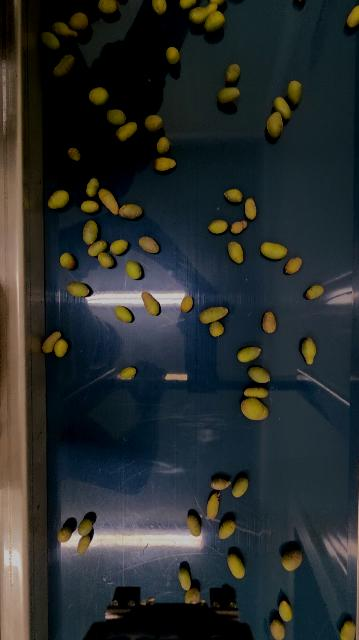Baby Potato: (240, 395, 271, 422), (52, 53, 77, 79), (260, 240, 289, 261), (203, 10, 227, 35), (141, 289, 162, 317), (99, 188, 120, 216), (188, 4, 217, 24), (281, 547, 304, 572), (50, 20, 80, 39), (199, 306, 229, 324), (40, 29, 63, 52), (47, 188, 71, 210), (115, 121, 138, 143), (267, 111, 285, 139), (237, 344, 262, 364), (273, 96, 293, 121), (217, 85, 242, 105), (302, 337, 319, 366), (228, 552, 246, 579), (206, 491, 222, 521), (88, 86, 110, 107), (287, 79, 304, 106), (248, 365, 272, 384), (42, 330, 61, 354), (82, 219, 100, 244), (262, 309, 279, 335), (68, 11, 90, 31), (243, 385, 272, 400), (138, 235, 160, 254), (218, 518, 237, 540), (228, 240, 245, 264), (119, 203, 143, 220), (67, 281, 91, 298), (144, 113, 164, 133), (340, 618, 358, 640), (232, 476, 250, 498), (226, 62, 243, 85), (279, 599, 295, 623), (187, 513, 203, 537), (114, 305, 135, 323), (126, 259, 143, 281), (270, 618, 287, 640), (87, 239, 109, 256), (154, 156, 177, 172), (285, 256, 304, 275), (178, 566, 193, 590), (106, 109, 127, 126), (306, 283, 325, 301), (244, 196, 258, 220), (346, 3, 359, 28), (109, 238, 128, 255), (211, 477, 234, 491), (77, 517, 93, 537), (57, 524, 73, 544), (53, 337, 69, 357), (86, 176, 100, 198), (97, 0, 119, 14), (59, 252, 76, 270), (98, 251, 116, 268), (185, 586, 202, 604), (165, 46, 181, 65), (209, 219, 229, 234), (224, 188, 244, 203), (156, 135, 171, 155), (80, 200, 100, 214), (77, 535, 91, 555), (209, 320, 226, 336), (151, 0, 168, 16), (231, 219, 248, 234), (181, 295, 194, 313), (118, 366, 136, 379), (67, 146, 82, 161), (179, 0, 198, 11), (209, 0, 231, 7)
